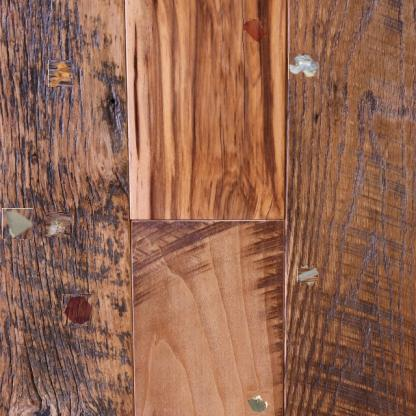dirty: (2, 208, 33, 239), (288, 53, 319, 79), (47, 61, 73, 86), (46, 212, 70, 236), (248, 392, 270, 415), (299, 267, 317, 284)
liquid: (62, 294, 92, 326), (242, 18, 268, 42)
